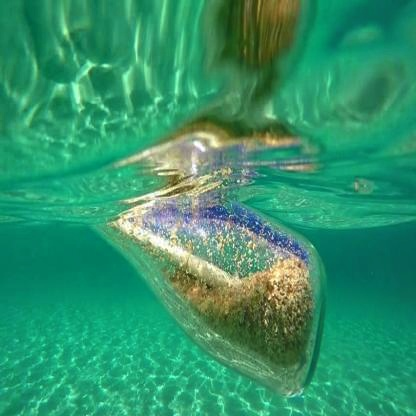gbottle: (89, 202, 328, 396)
